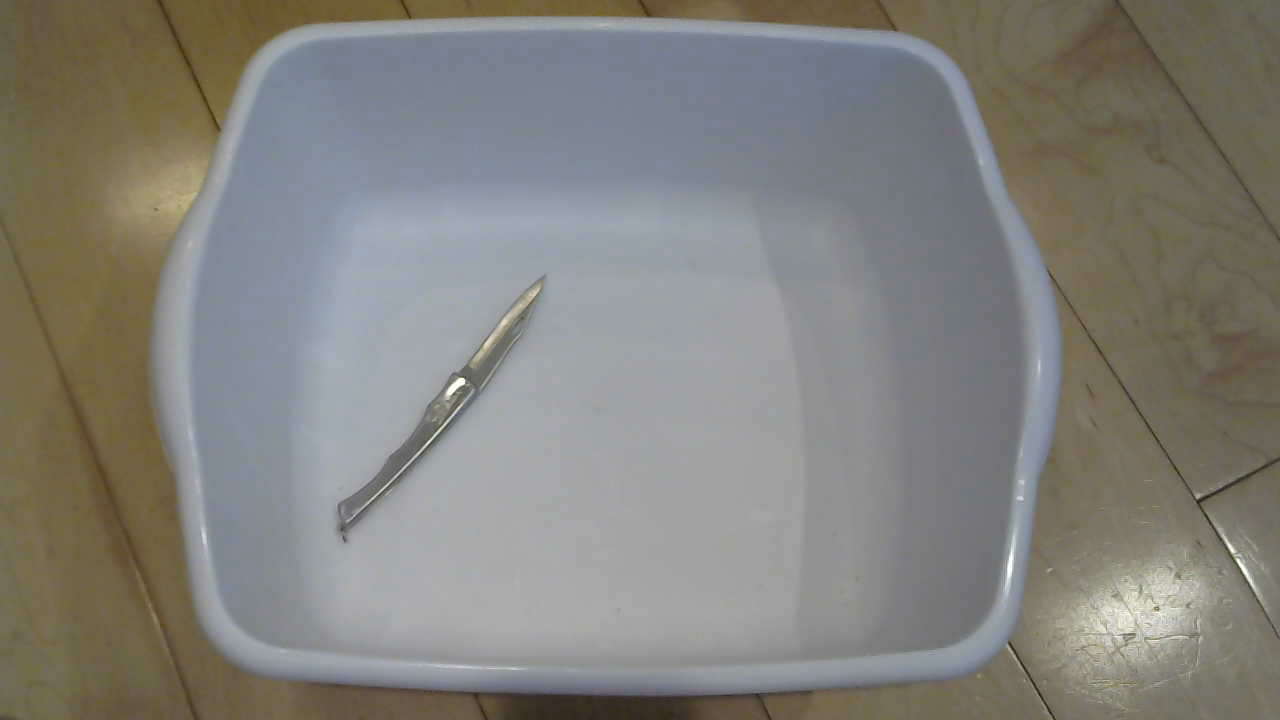knife: (334, 280, 554, 557)
